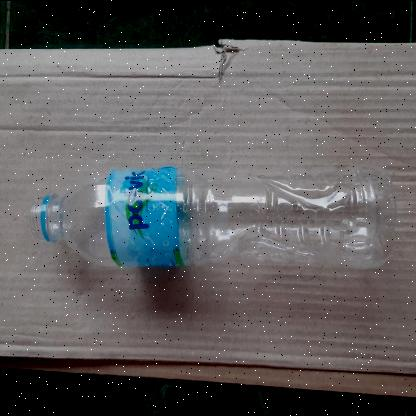Plastic Bottle: (28, 166, 393, 266)
